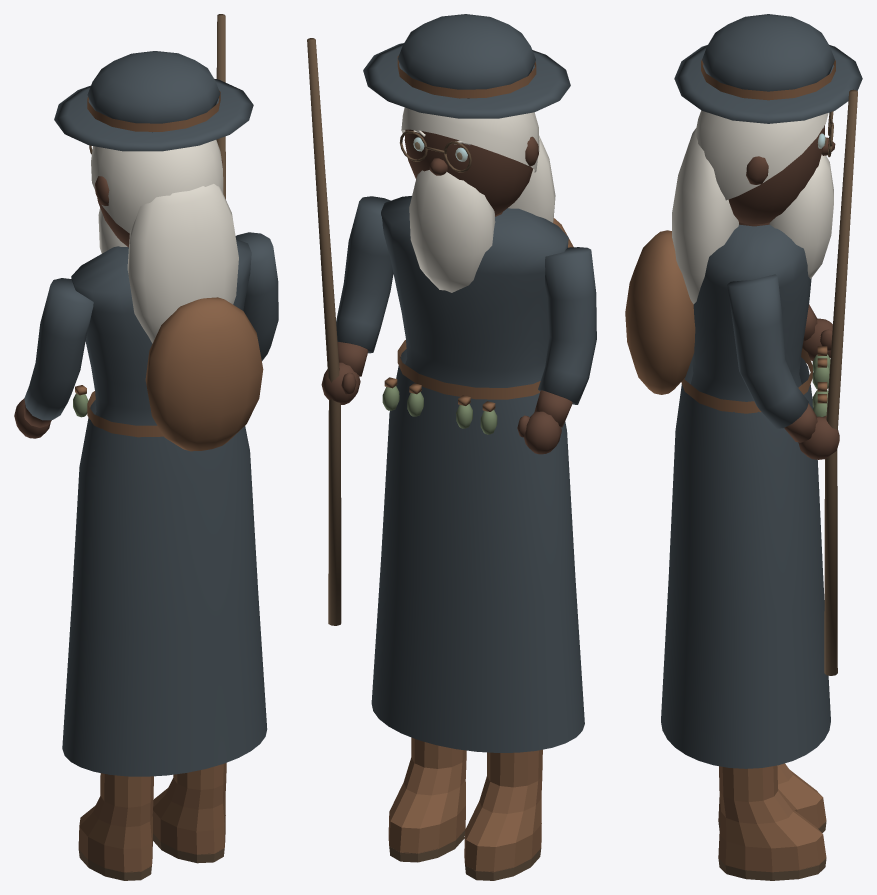
File: SM_NPC_OBSIDIANA.glb
3 renders of one model, left to right at view 1: azimuth 30°, elevation 25°; view 2: azimuth 150°, elevation 25°; view 3: azimuth 270°, elevation 25°, orthographic. The views are drawn at different scales.
Parts seen in each view (by area): view 1: SM_NPC_OBSIDIANA_BODY, SM_NPC_OBSIDIANA_HAIR, SM_NPC_OBSIDIANA_ARM_L, SM_NPC_OBSIDIANA_LEG_L, SM_NPC_OBSIDIANA_LEG_R, SM_NPC_OBSIDIANA_ARM_R, SM_NPC_OBSIDIANA_HEAD; view 2: SM_NPC_OBSIDIANA_BODY, SM_NPC_OBSIDIANA_HAIR, SM_NPC_OBSIDIANA_ARM_R, SM_NPC_OBSIDIANA_HEAD, SM_NPC_OBSIDIANA_ARM_L, SM_NPC_OBSIDIANA_LEG_L, SM_NPC_OBSIDIANA_LEG_R; view 3: SM_NPC_OBSIDIANA_BODY, SM_NPC_OBSIDIANA_HAIR, SM_NPC_OBSIDIANA_ARM_R, SM_NPC_OBSIDIANA_LEG_R, SM_NPC_OBSIDIANA_HEAD, SM_NPC_OBSIDIANA_LEG_L, SM_NPC_OBSIDIANA_ARM_L.
Part boxes in pixels (left/top/right/bottom): SM_NPC_OBSIDIANA_BODY: left=62, top=239, right=267, bottom=776; SM_NPC_OBSIDIANA_HAIR: left=54, top=51, right=253, bottom=343; SM_NPC_OBSIDIANA_ARM_L: left=14, top=278, right=93, bottom=438; SM_NPC_OBSIDIANA_LEG_L: left=78, top=773, right=153, bottom=880; SM_NPC_OBSIDIANA_LEG_R: left=152, top=763, right=226, bottom=863; SM_NPC_OBSIDIANA_ARM_R: left=216, top=14, right=278, bottom=360; SM_NPC_OBSIDIANA_HEAD: left=89, top=145, right=222, bottom=253; SM_NPC_OBSIDIANA_BODY: left=371, top=196, right=584, bottom=752; SM_NPC_OBSIDIANA_HAIR: left=363, top=14, right=570, bottom=222; SM_NPC_OBSIDIANA_ARM_R: left=307, top=38, right=393, bottom=625; SM_NPC_OBSIDIANA_HEAD: left=399, top=129, right=538, bottom=292; SM_NPC_OBSIDIANA_ARM_L: left=517, top=247, right=596, bottom=454; SM_NPC_OBSIDIANA_LEG_L: left=464, top=749, right=542, bottom=880; SM_NPC_OBSIDIANA_LEG_R: left=388, top=737, right=466, bottom=862; SM_NPC_OBSIDIANA_BODY: left=625, top=222, right=830, bottom=768; SM_NPC_OBSIDIANA_HAIR: left=672, top=14, right=862, bottom=304; SM_NPC_OBSIDIANA_ARM_R: left=727, top=89, right=857, bottom=675; SM_NPC_OBSIDIANA_LEG_R: left=718, top=765, right=826, bottom=880; SM_NPC_OBSIDIANA_HEAD: left=728, top=111, right=835, bottom=278; SM_NPC_OBSIDIANA_LEG_L: left=718, top=763, right=826, bottom=833; SM_NPC_OBSIDIANA_ARM_L: left=802, top=304, right=832, bottom=360.
Size of the model in its own units: 0.5578 by 1.78 by 0.4652.
